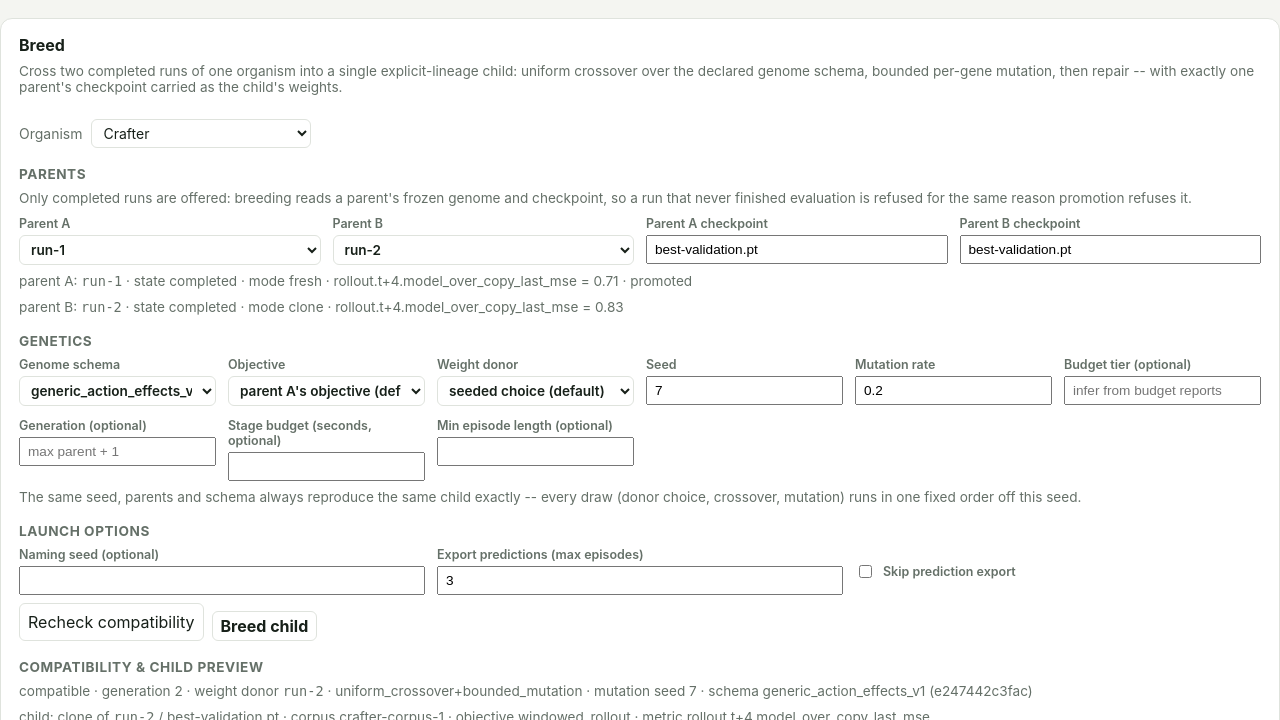
Scenario: BreedPanel › refuses to breed a change the on-screen preview does not describe yet
Expected: the dropdown labelled "Parent B" shows "run-2", top-left (332, 235), bottom-right (634, 265)
Expected: the dropdown labelled "Parent A" shows "run-1", top-left (19, 235), bottom-right (320, 265)
Step 1. Replace the text in the number field labelled "Seed" with "11" → (744, 390), box top-left (646, 376), bottom-right (843, 405)
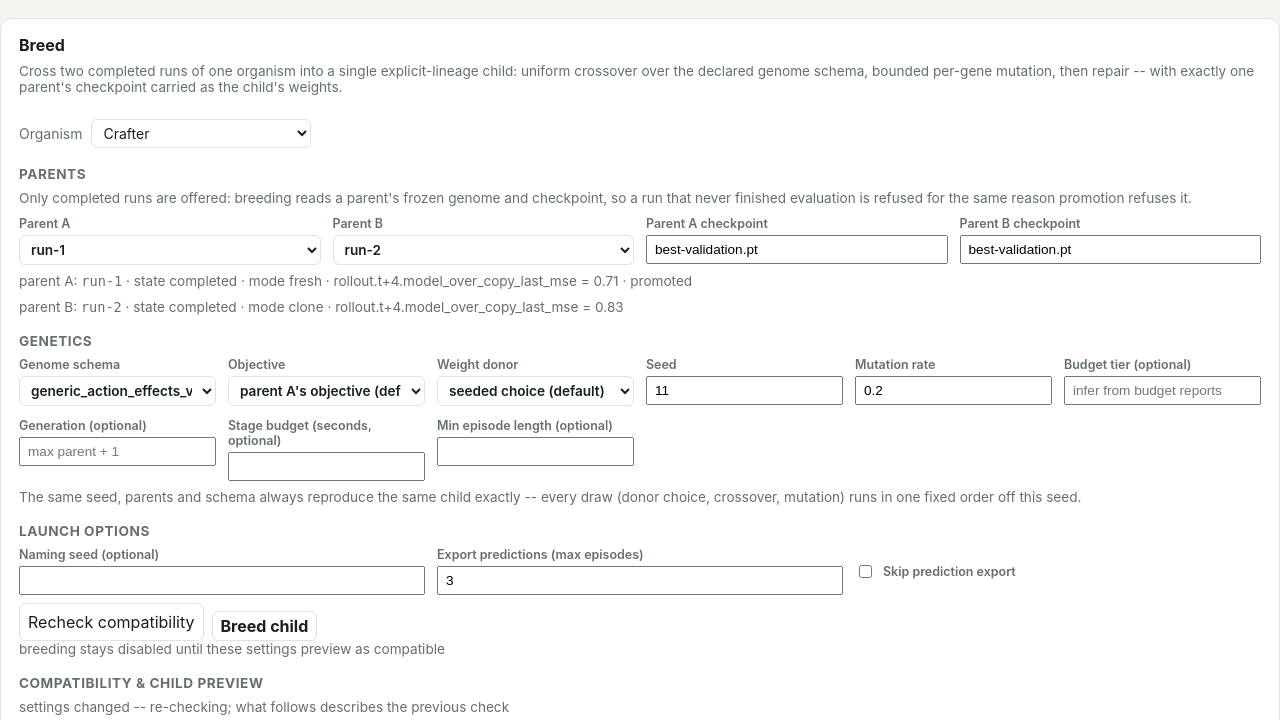
Expected: the text with test id "breed-stale" is shown, top-left (19, 699), bottom-right (509, 715)
Step 2. Click the button "Breed child" → click(264, 626), box top-left (212, 611), bottom-right (317, 641)
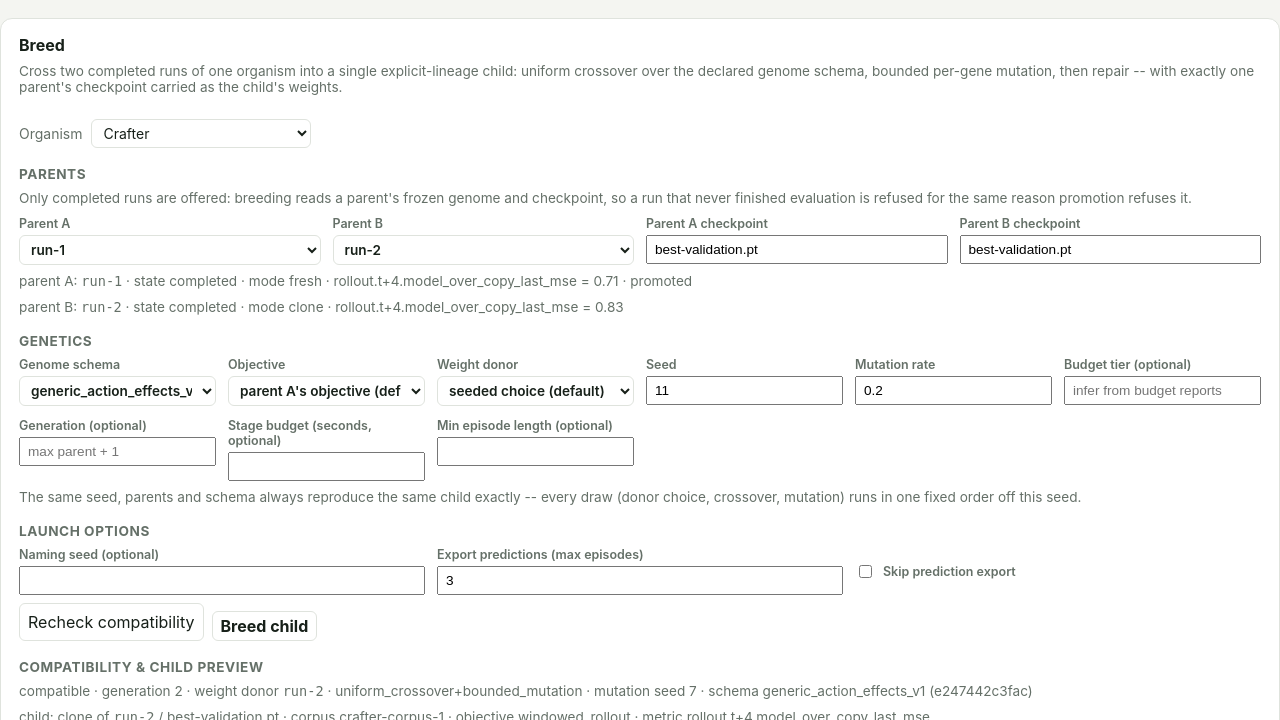
Expected: the text with test id "breed-stale" is gone
